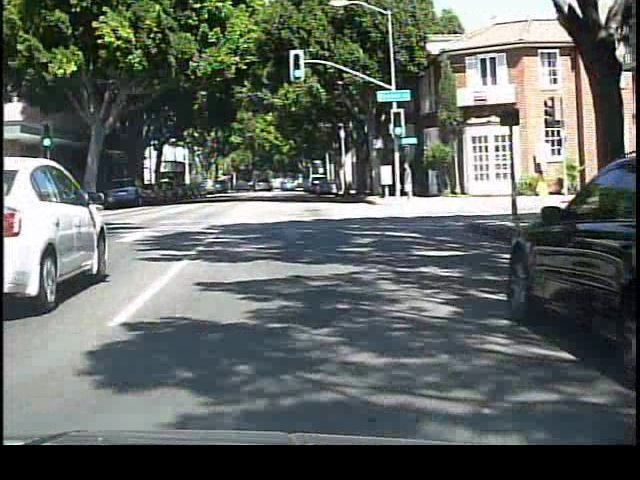person: (401, 157, 421, 205)
